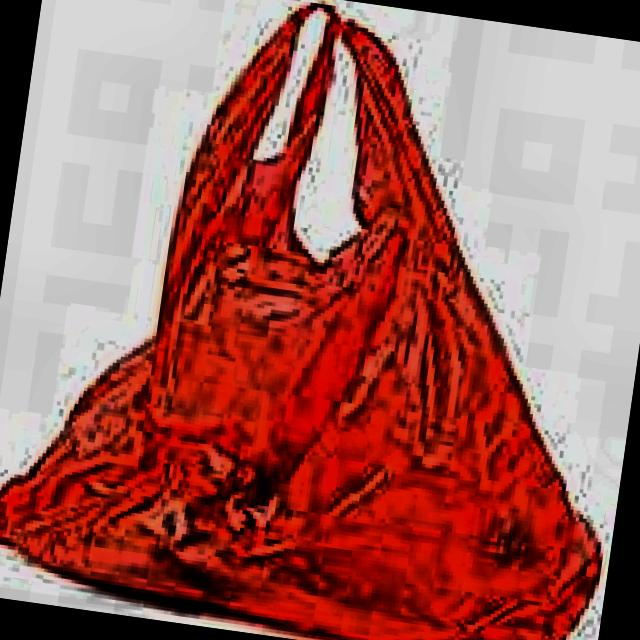plastic bag: (0, 5, 601, 640)
